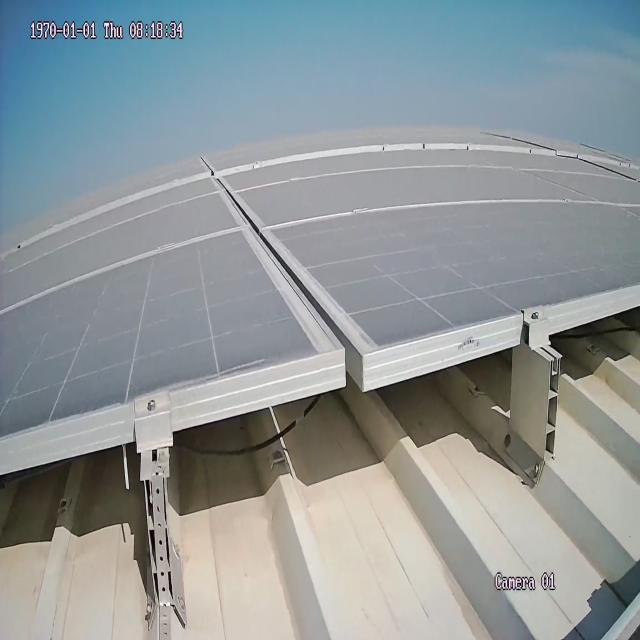interior panel: (211, 178, 383, 348)
outher panel: (0, 272, 640, 640)
